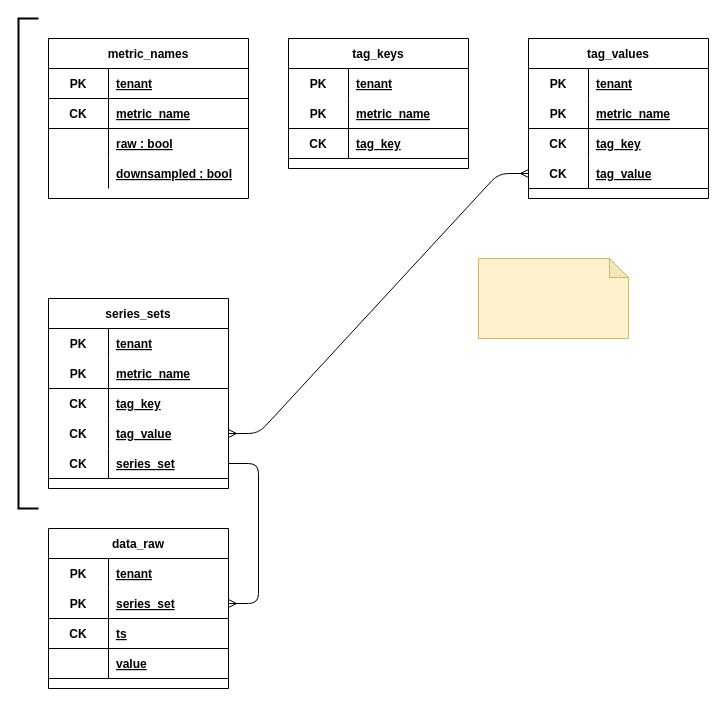
The diagram is 726 pixels wide and 706 high, and some of its shapes have lost their labels. Here are the shapes that lost their labels. From the top down, the centre of each, then its label:
At point 28,263: "metadata".
At point 553,298: "PK = partition key CK = clustering key PK + CK = primary key".
